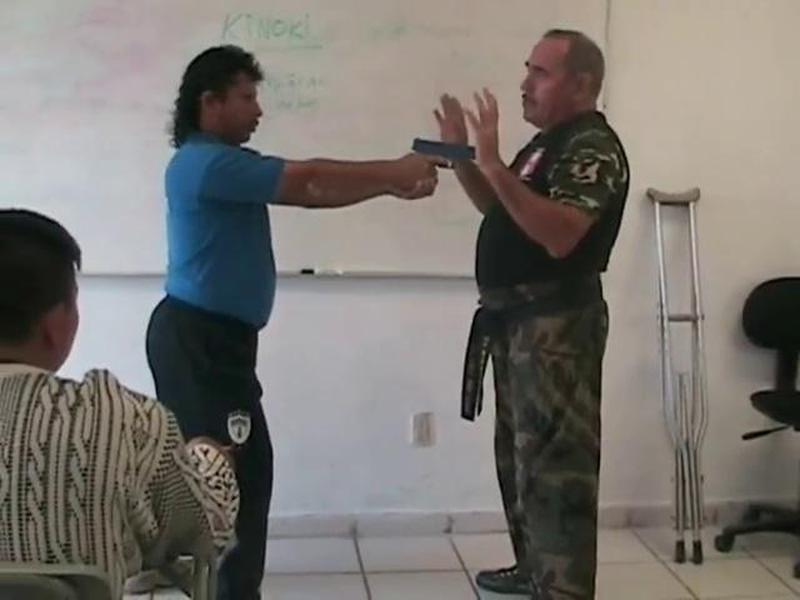Pistola: (407, 122, 483, 187)
